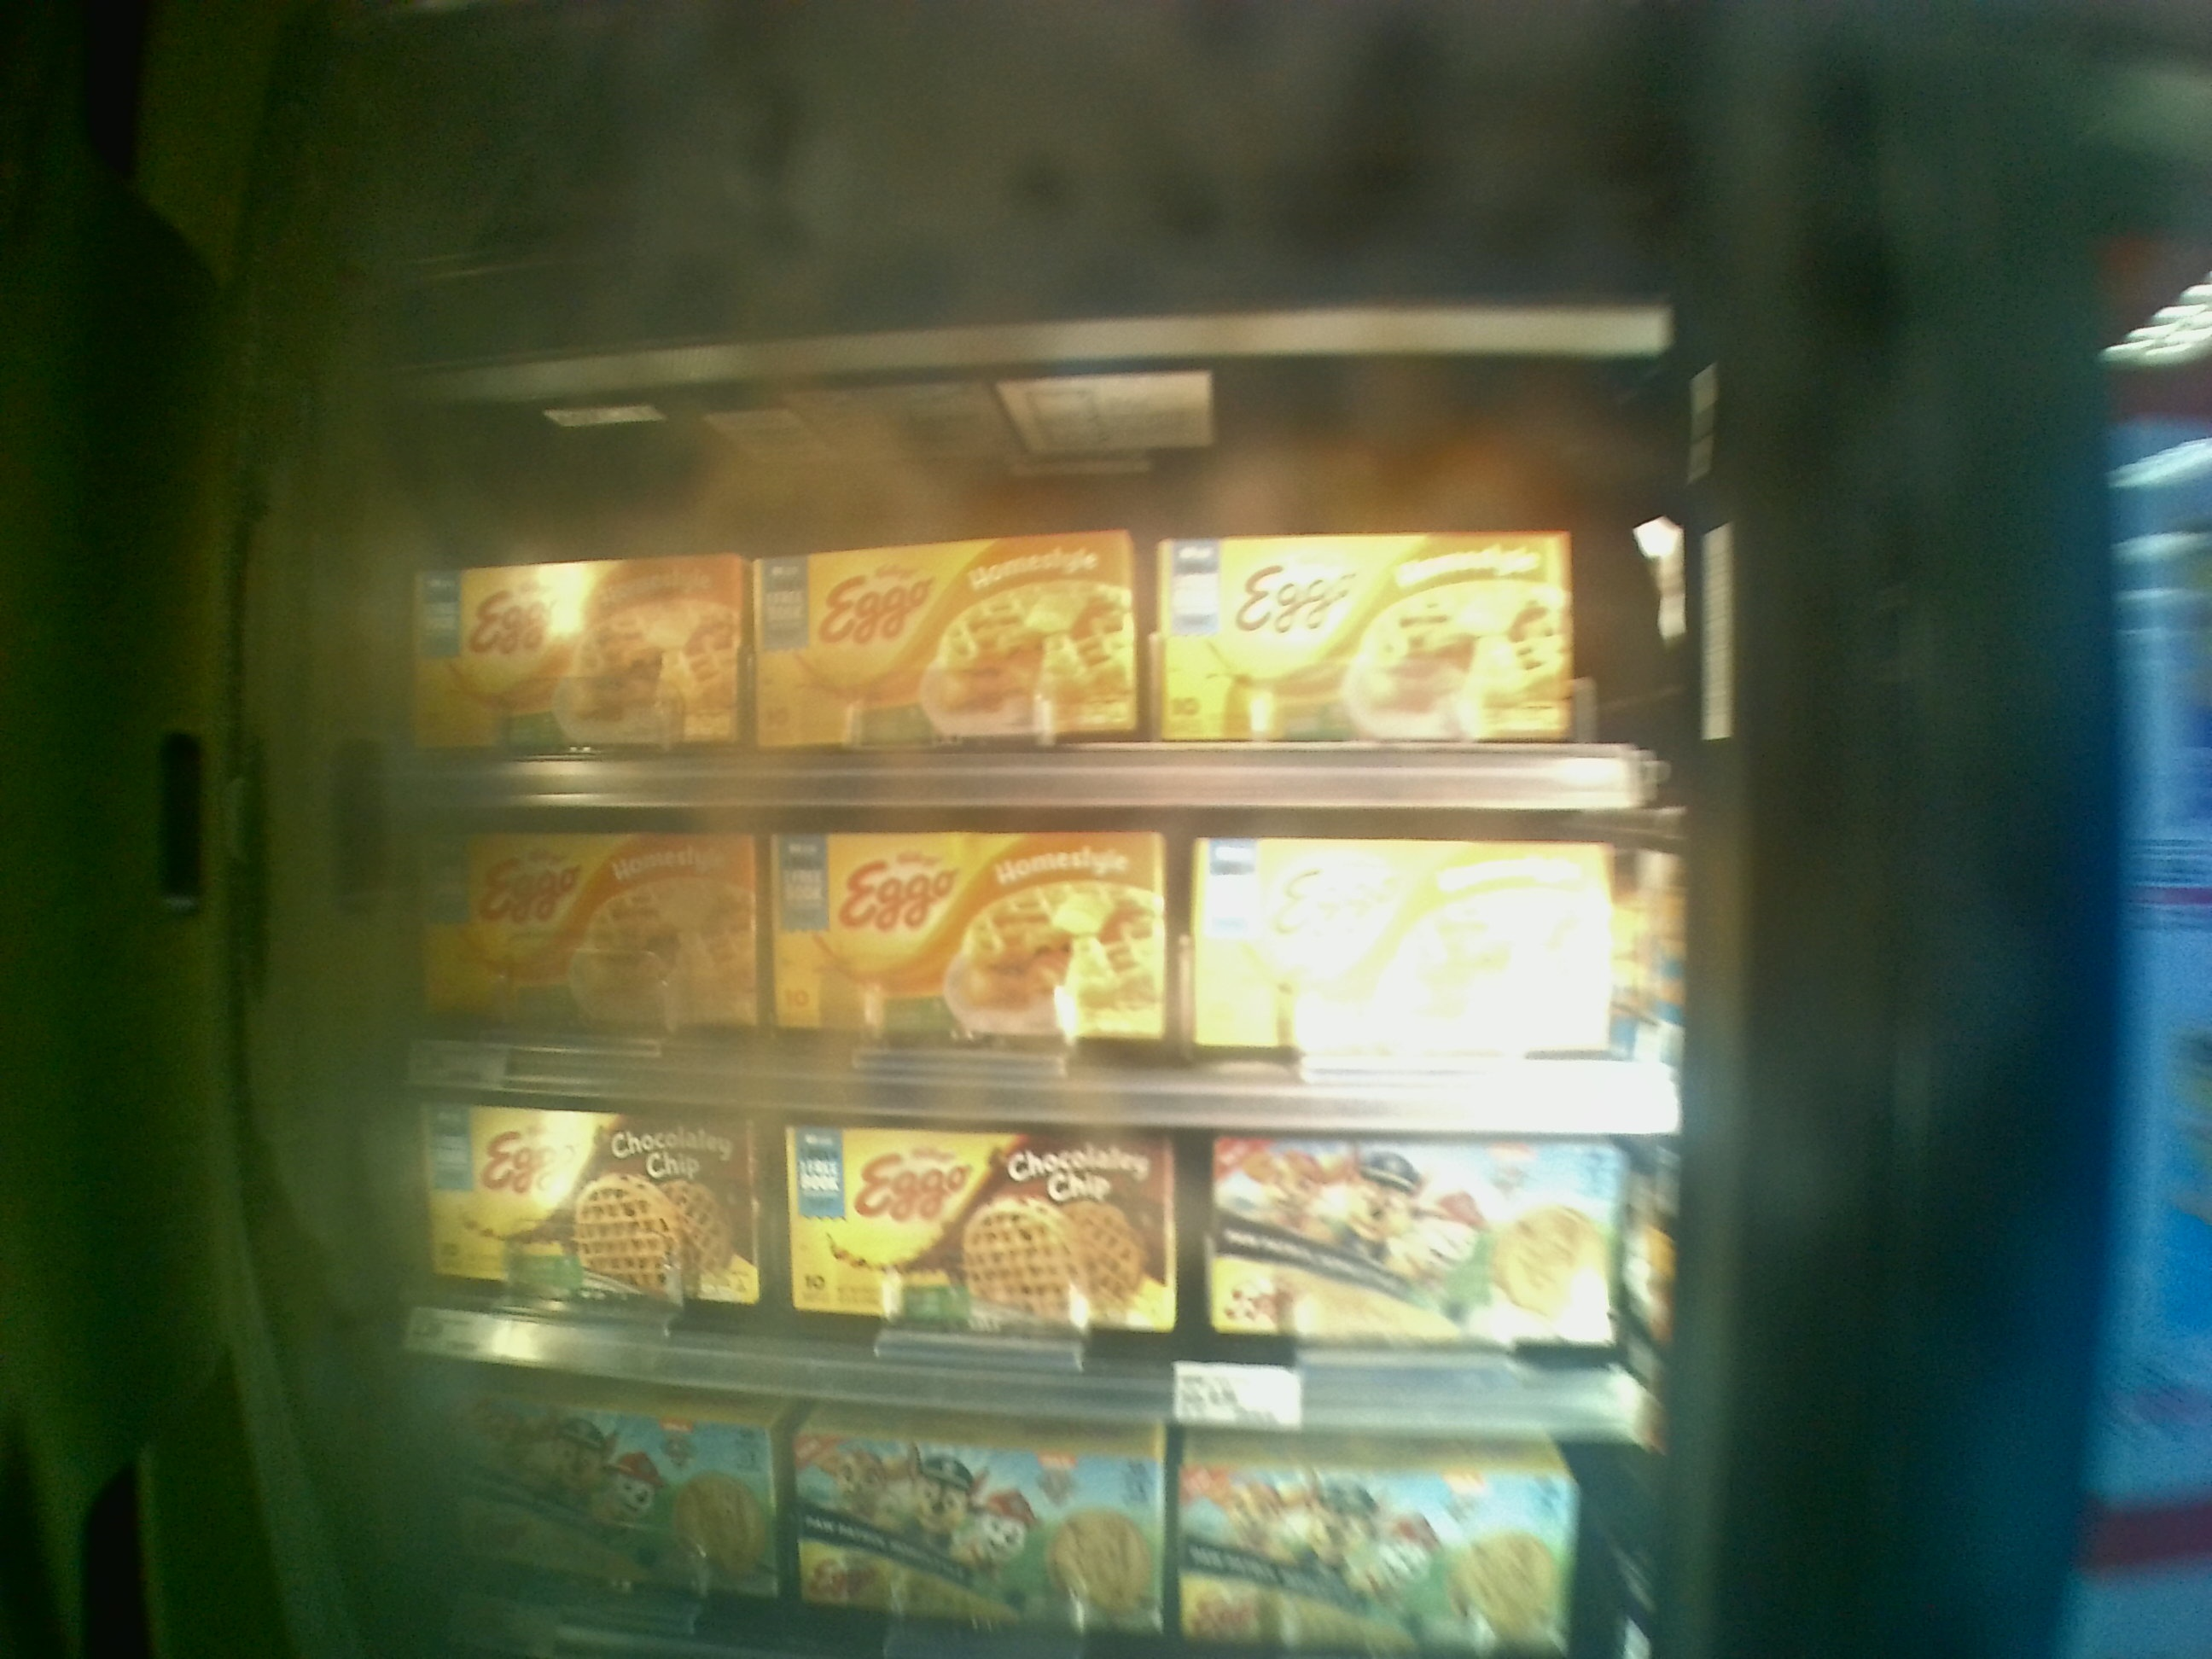frozen-food-shelf: (401, 310, 1674, 823)
